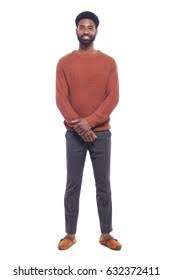person: (47, 8, 136, 260)
